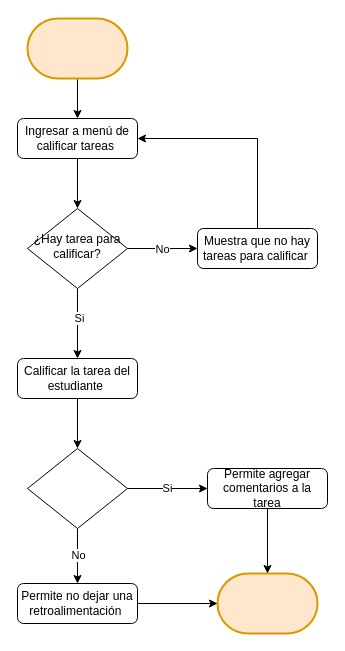
Some shapes in this 345 by 651 pixel diagram are drawn without their labels. Here are the shapes that lost their labels. From the top down, the box of each, then its label:
(26, 17, 128, 79): Inicio
(26, 448, 128, 528): ¿El docente desea retroalimentar?
(216, 572, 318, 634): Fin
